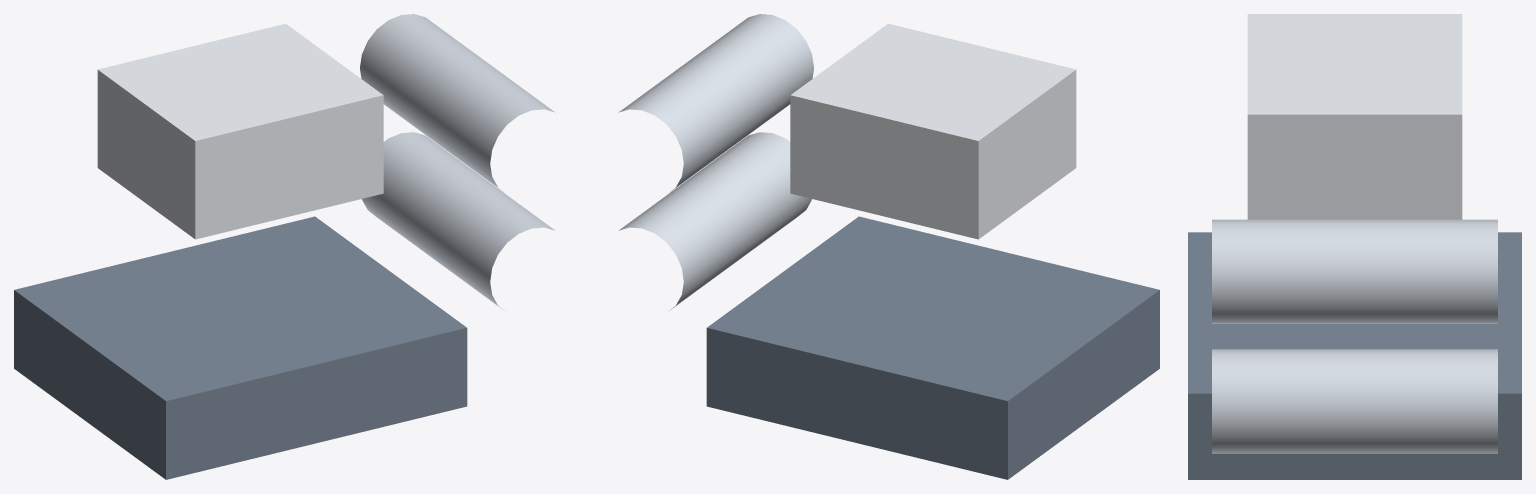
The model's file is metal_forming_forging.glb.
The picture shows the model from 3 angles, left to right: view 1: azimuth 30°, elevation 25°; view 2: azimuth 150°, elevation 25°; view 3: azimuth 270°, elevation 25°; orthographic projection. The views are drawn at different scales.
Visible parts, largest first — view 1: ForgingPressBed, HydraulicRamUpperDie, RollingMillWorkRollUpper, RollingMillWorkRollLower; view 2: ForgingPressBed, HydraulicRamUpperDie, RollingMillWorkRollUpper, RollingMillWorkRollLower; view 3: HydraulicRamUpperDie, RollingMillWorkRollUpper, RollingMillWorkRollLower, ForgingPressBed.
Part boxes in pixels (bbox=[...]): ForgingPressBed: bbox=[14, 216, 467, 479]; HydraulicRamUpperDie: bbox=[97, 23, 383, 239]; RollingMillWorkRollUpper: bbox=[360, 14, 555, 191]; RollingMillWorkRollLower: bbox=[362, 132, 554, 311]; ForgingPressBed: bbox=[706, 216, 1159, 479]; HydraulicRamUpperDie: bbox=[790, 23, 1076, 239]; RollingMillWorkRollUpper: bbox=[618, 14, 813, 191]; RollingMillWorkRollLower: bbox=[619, 132, 811, 311]; HydraulicRamUpperDie: bbox=[1247, 14, 1462, 219]; RollingMillWorkRollUpper: bbox=[1212, 219, 1497, 323]; RollingMillWorkRollLower: bbox=[1212, 349, 1497, 453]; ForgingPressBed: bbox=[1188, 232, 1521, 479].
Size of the model in its own units: 2.22 by 1.55 by 1.4.
